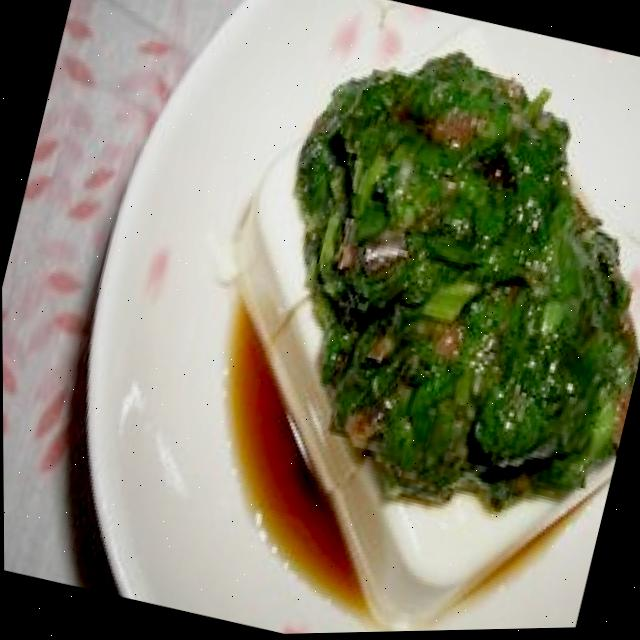豆腐料理: (152, 8, 640, 637)
